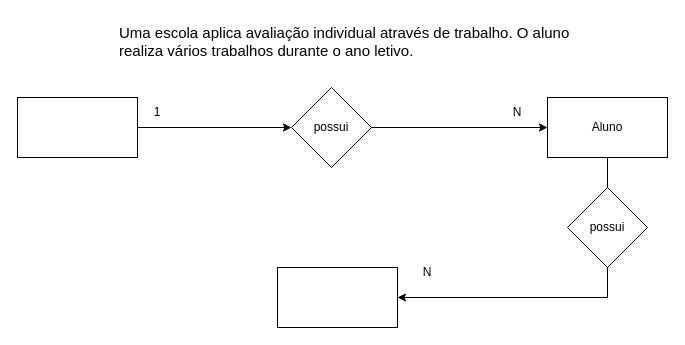
Image size: 685x345. Some labels were removed from this diagram. The shapes that lost their labels are listed below. From the top down, each one's centre as x and y in pixels, then its label:
point 77,127: Escola
point 337,297: trabalho
